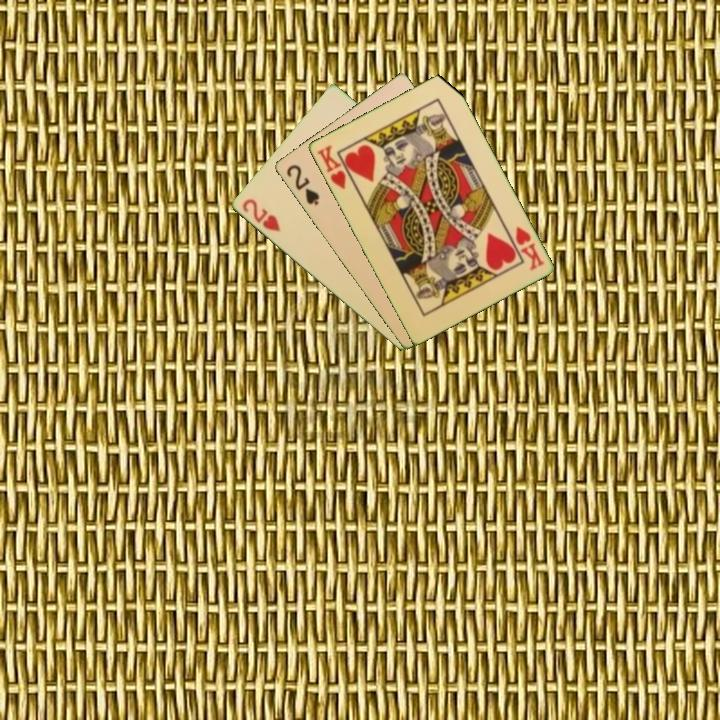2h: (238, 195, 283, 235)
2s: (282, 161, 322, 208)
Kh: (313, 141, 357, 192), (511, 222, 547, 273)
